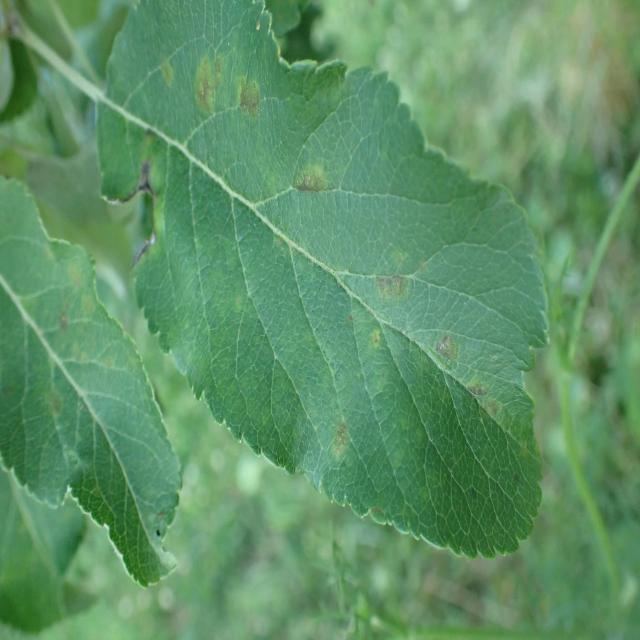scab: (150, 41, 525, 491)
